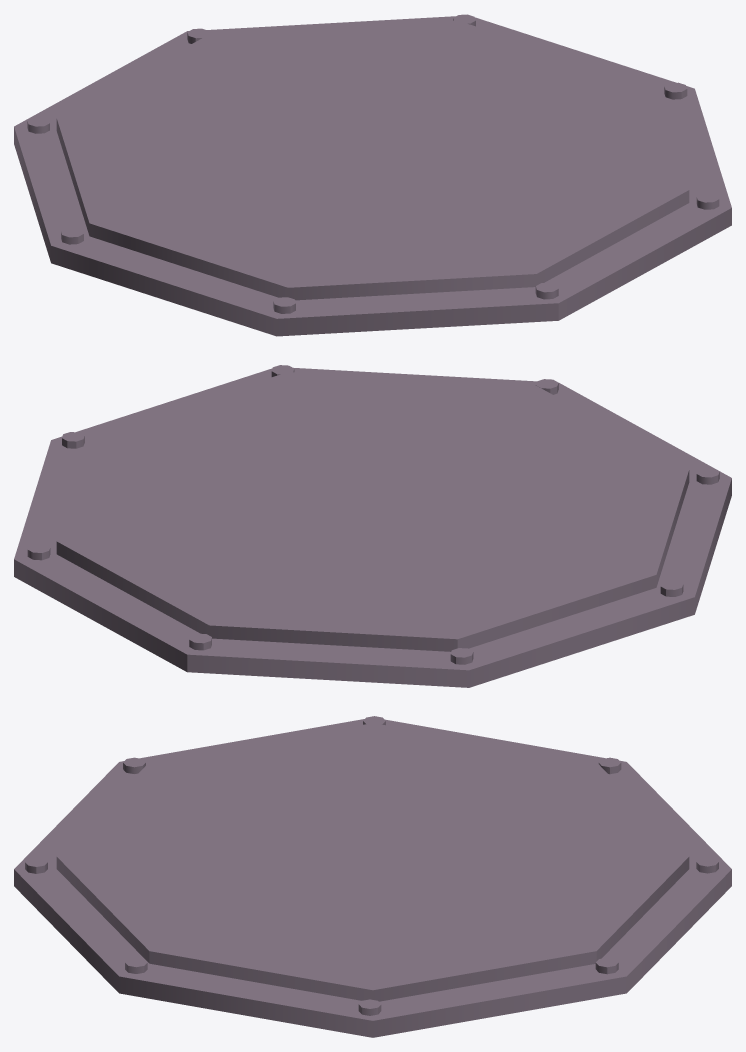
The picture shows the model from 3 angles, top to bottom: view 1: azimuth 30°, elevation 25°; view 2: azimuth 150°, elevation 25°; view 3: azimuth 270°, elevation 25°; orthographic projection. The views are drawn at different scales.
Parts seen in each view (by area): view 1: Manhole Cover; view 2: Manhole Cover; view 3: Manhole Cover.
Part boxes in pixels (<box>): Manhole Cover: <box>14,14,731,336</box>; Manhole Cover: <box>14,365,731,687</box>; Manhole Cover: <box>14,716,731,1037</box>.
Size of the model in its own units: 0.7 by 0.0318 by 0.7.
Materials: 1 (1 with a texture image).
